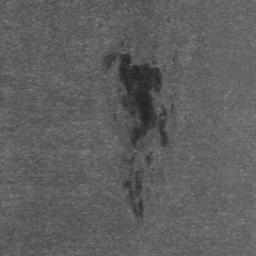Iron scale compression: (100, 51, 168, 220), (142, 153, 155, 168)
